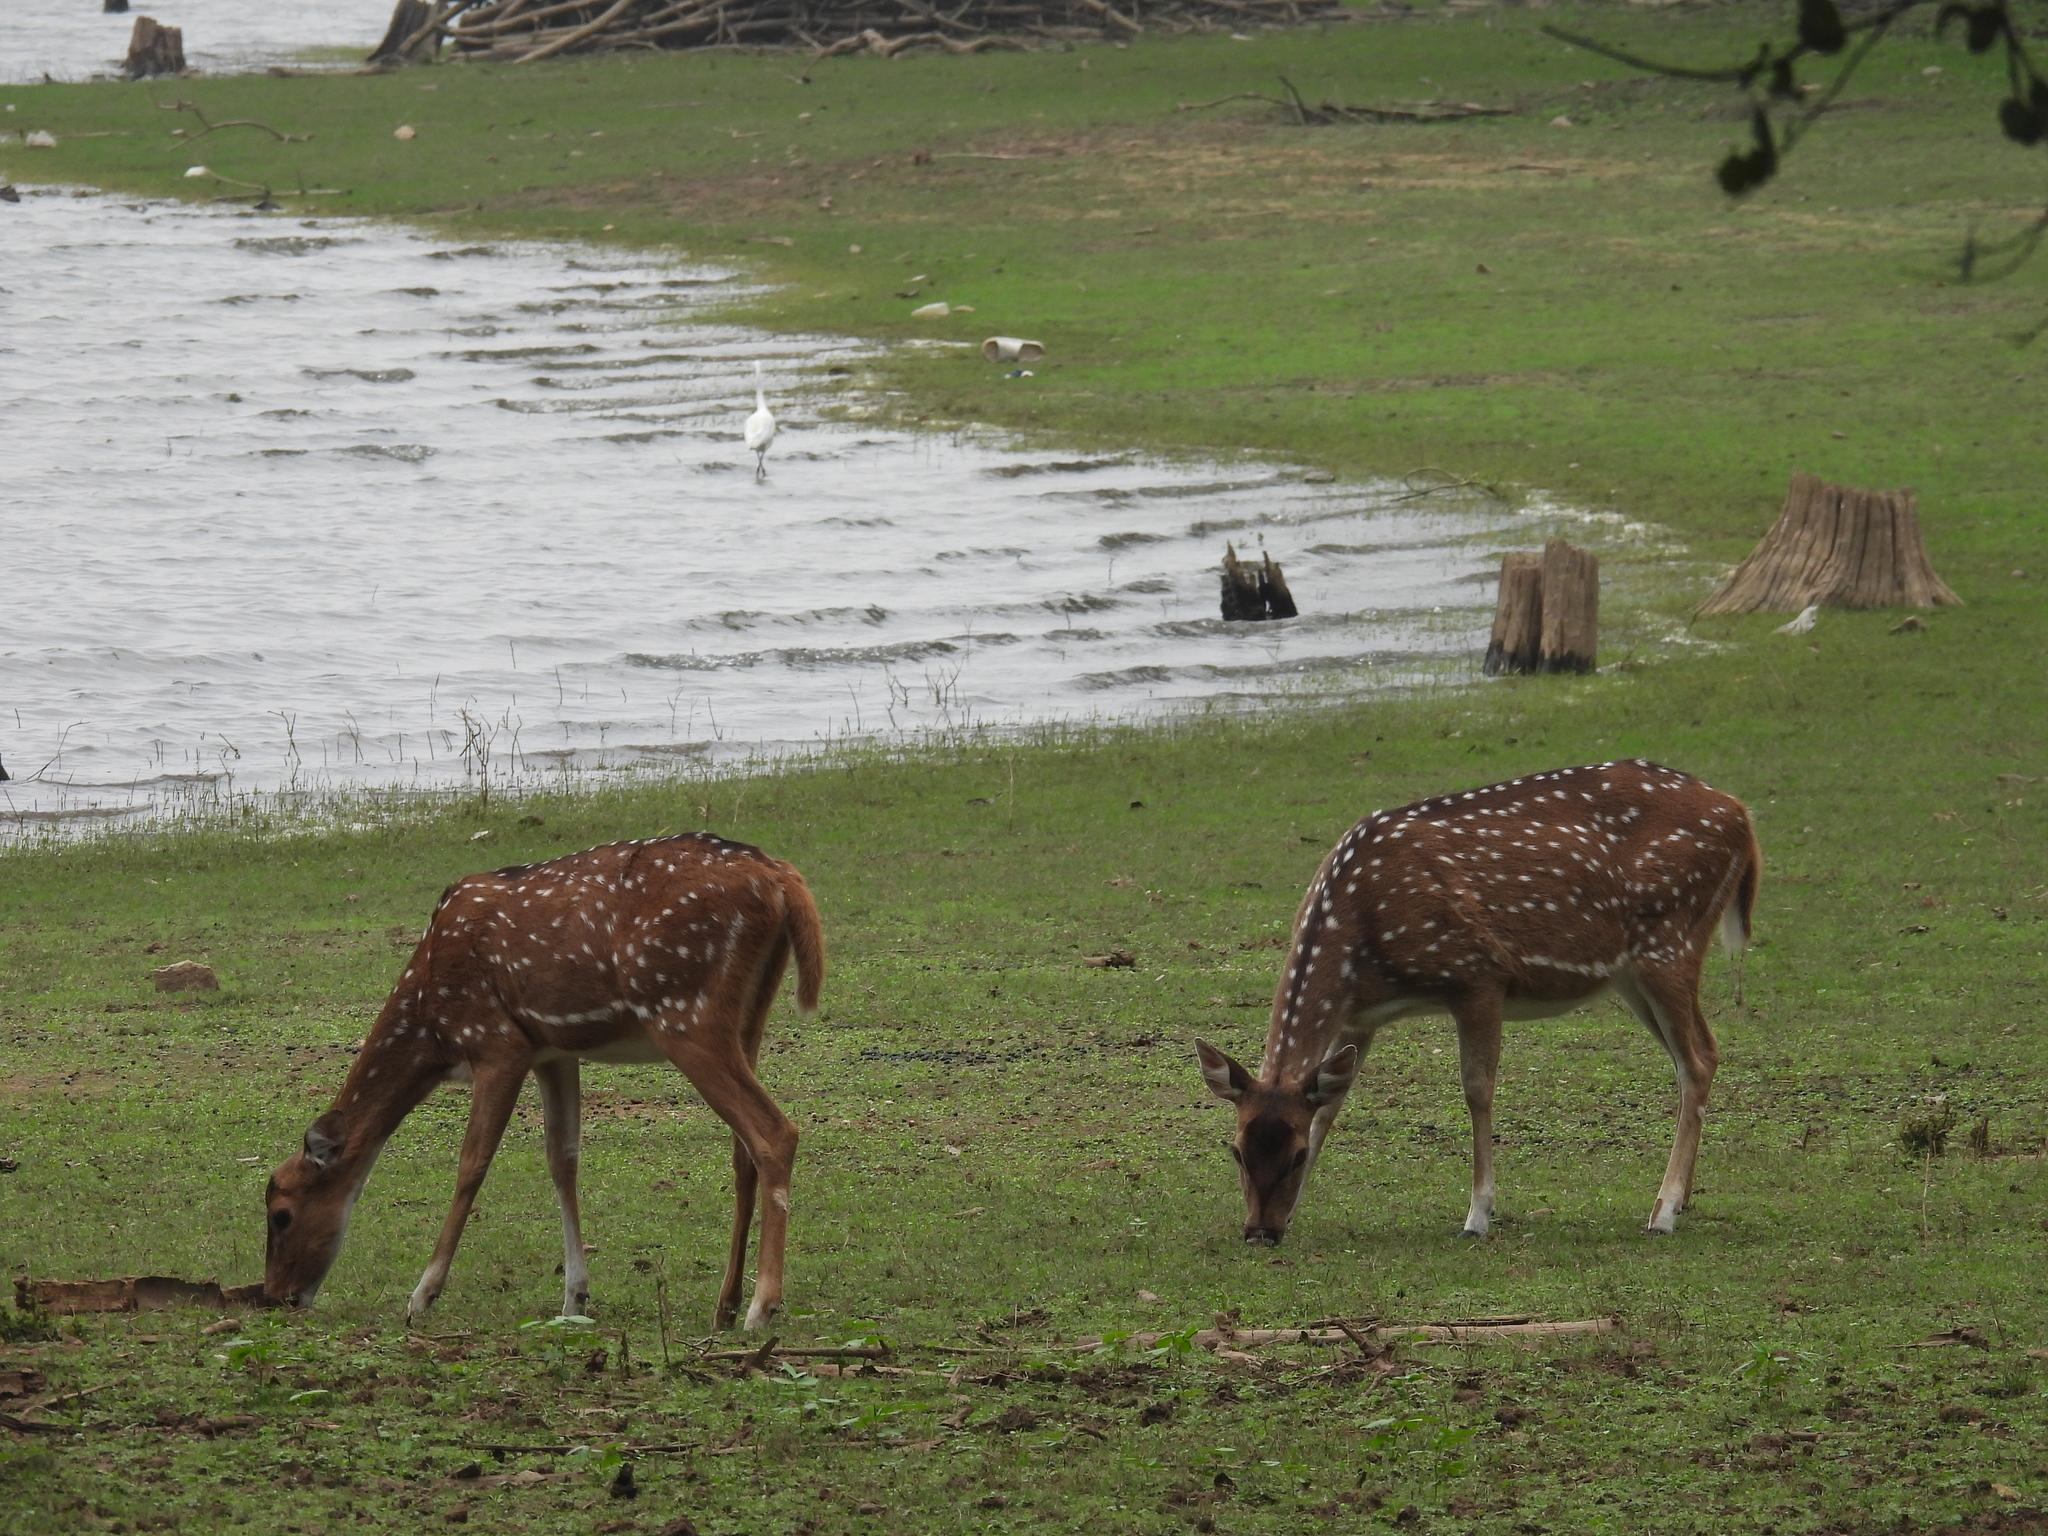Deer: (263, 833, 822, 1329), (1195, 758, 1761, 1246)
